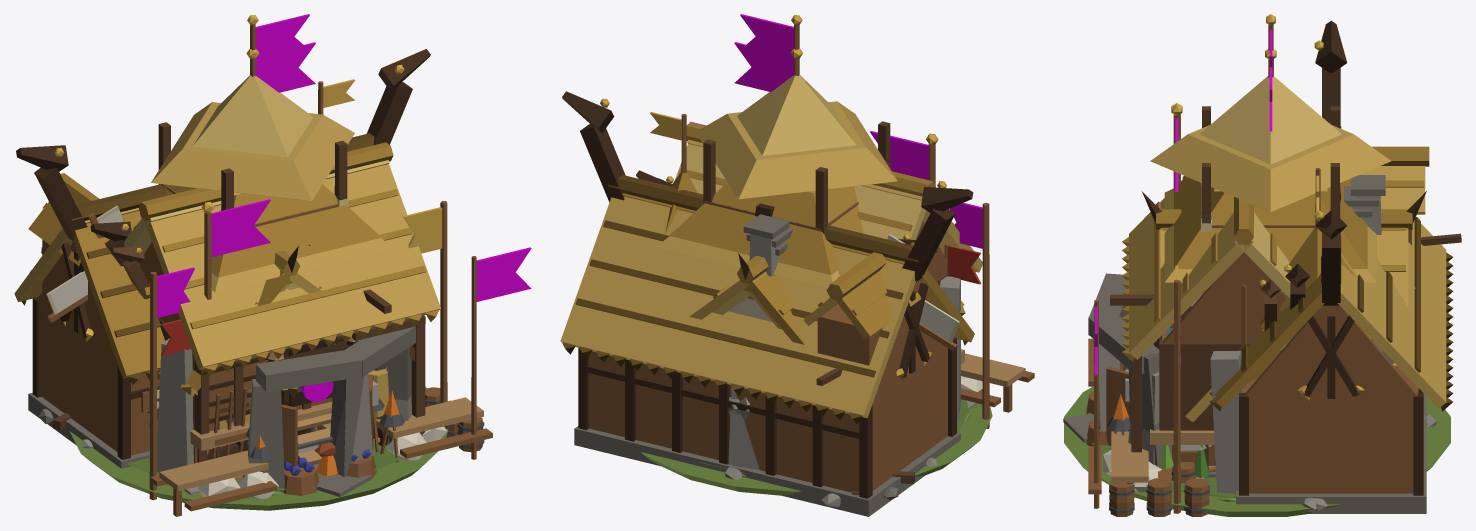
Rendered from buildings.glb.
The picture shows the model from 3 angles, left to right: view 1: azimuth 30°, elevation 25°; view 2: azimuth 150°, elevation 25°; view 3: azimuth 270°, elevation 25°; orthographic projection. The views are drawn at different scales.
Visible parts, largest first — view 1: meadhall, granary, henge, lookout, watchtower, stockade, outpost, wagon_3, musterhall, quarry_2, granary#spinz, wagon_1 (+1 smaller); view 2: meadhall, lookout, granary, watchtower, wagon_3, henge, outpost, granary#spinz, wagon_1, wagon_2; view 3: meadhall, granary, lookout, henge, watchtower, wagon_3, stockade, musterhall, longhouse, quarry_2, forester, wagon_2 (+1 smaller).
Part boxes in pixels (x1,y1,x2,y2): meadhall: (14, 49, 492, 516); granary: (28, 142, 447, 498); henge: (69, 247, 531, 510); lookout: (151, 14, 354, 226); watchtower: (165, 42, 393, 292); stockade: (236, 336, 404, 473); outpost: (201, 199, 375, 454); wagon_3: (158, 79, 355, 494); musterhall: (90, 221, 389, 458); quarry_2: (352, 315, 425, 435); granary#spinz: (46, 205, 123, 322); wagon_1: (157, 319, 388, 463); meadhall: (560, 91, 1034, 516); lookout: (696, 14, 897, 233); granary: (675, 122, 982, 494); watchtower: (656, 42, 863, 288); wagon_3: (650, 112, 977, 409); henge: (641, 122, 992, 495); outpost: (870, 131, 938, 185); granary#spinz: (887, 234, 959, 351); wagon_1: (747, 242, 981, 299); wagon_2: (712, 228, 971, 404); meadhall: (1088, 20, 1453, 516); granary: (1086, 146, 1461, 492); lookout: (1150, 14, 1391, 231); henge: (1063, 273, 1450, 516); watchtower: (1164, 49, 1376, 319); wagon_3: (1142, 167, 1426, 365); stockade: (1106, 361, 1215, 465); musterhall: (1171, 263, 1310, 482); longhouse: (1172, 279, 1286, 477); quarry_2: (1125, 356, 1141, 452); forester: (1160, 445, 1209, 477); wagon_2: (1162, 186, 1405, 335).
Size of the model in its own units: 3.64 by 3.52 by 2.97.
